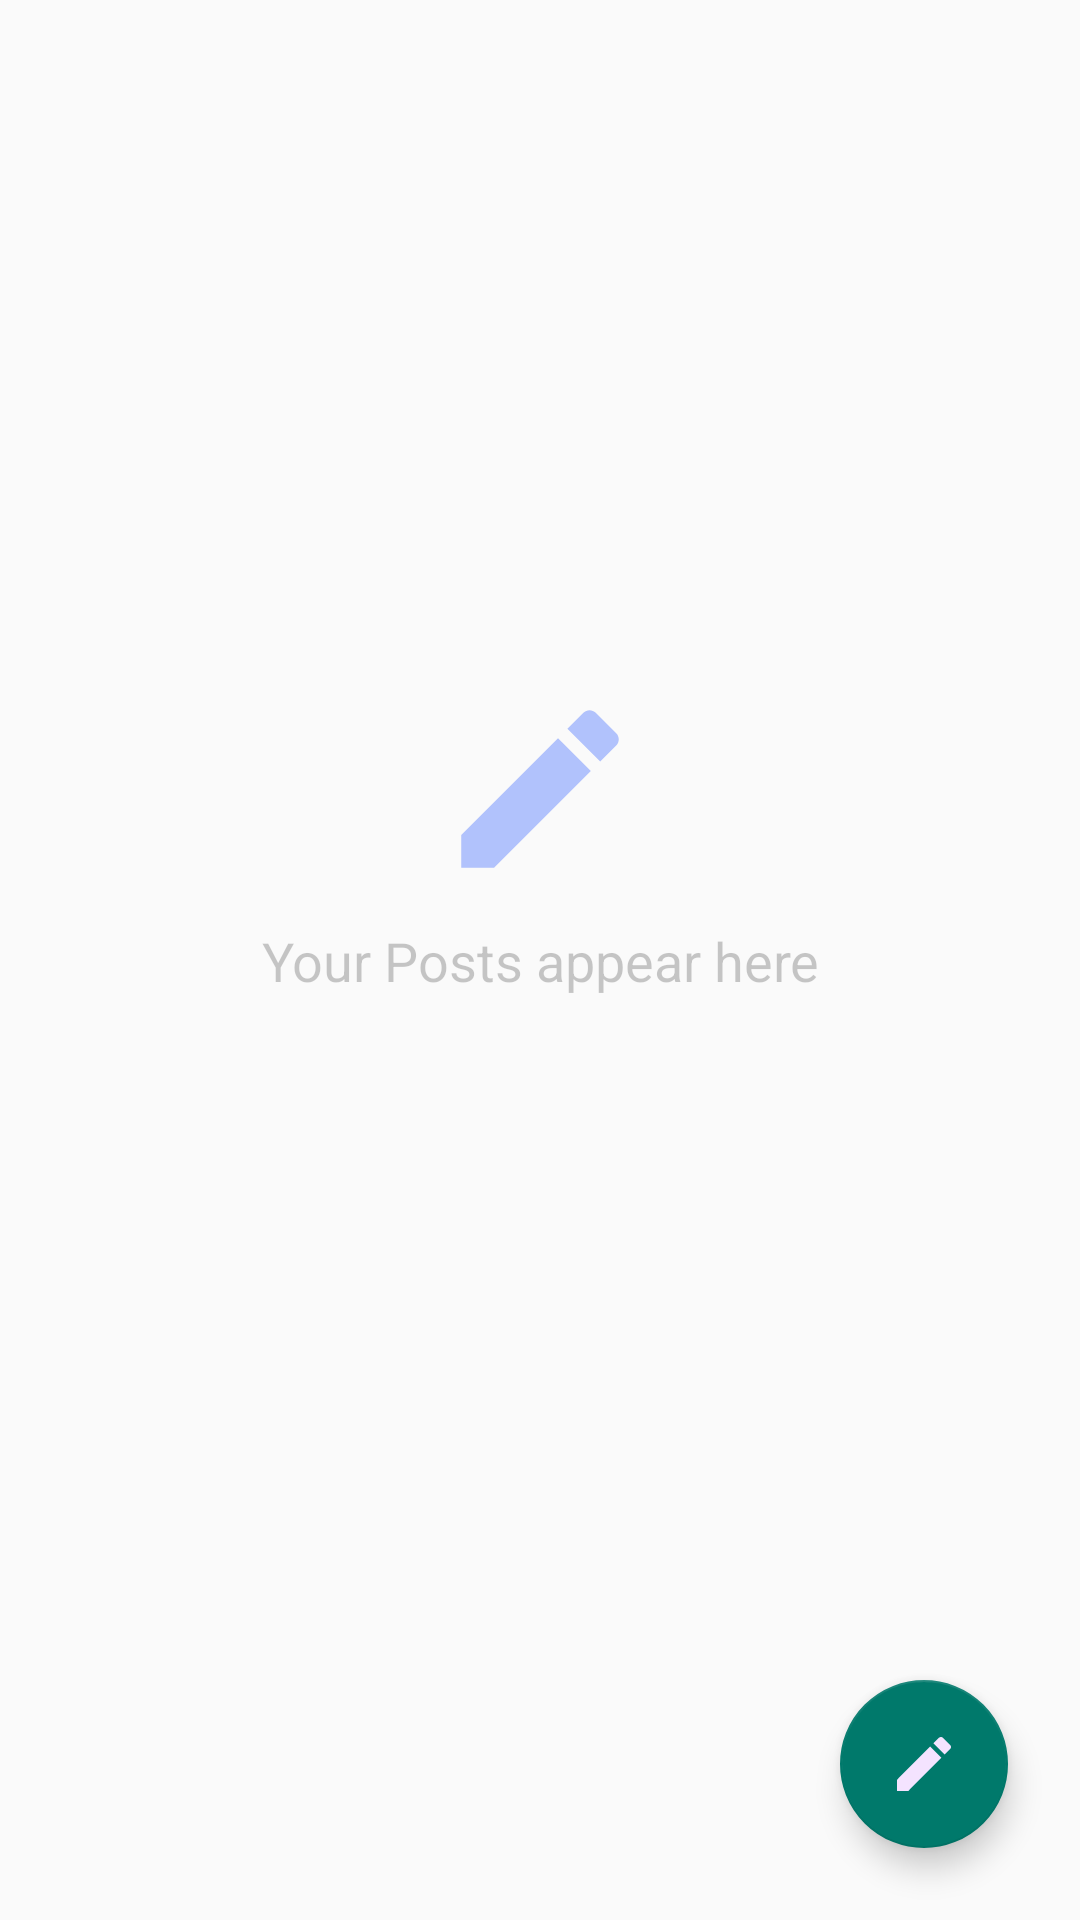

Icon bounding boxes for this 1080 x 1920 phone screenshot, format (x1, y1, x2, y2):
create: (461, 710, 619, 868)
edit: (840, 1680, 1008, 1848)
